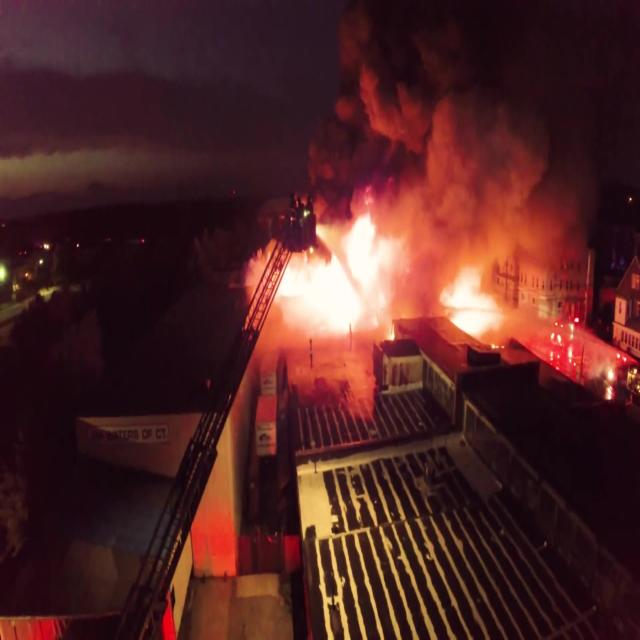fire: (296, 247, 376, 320)
smoke: (359, 15, 622, 226)
